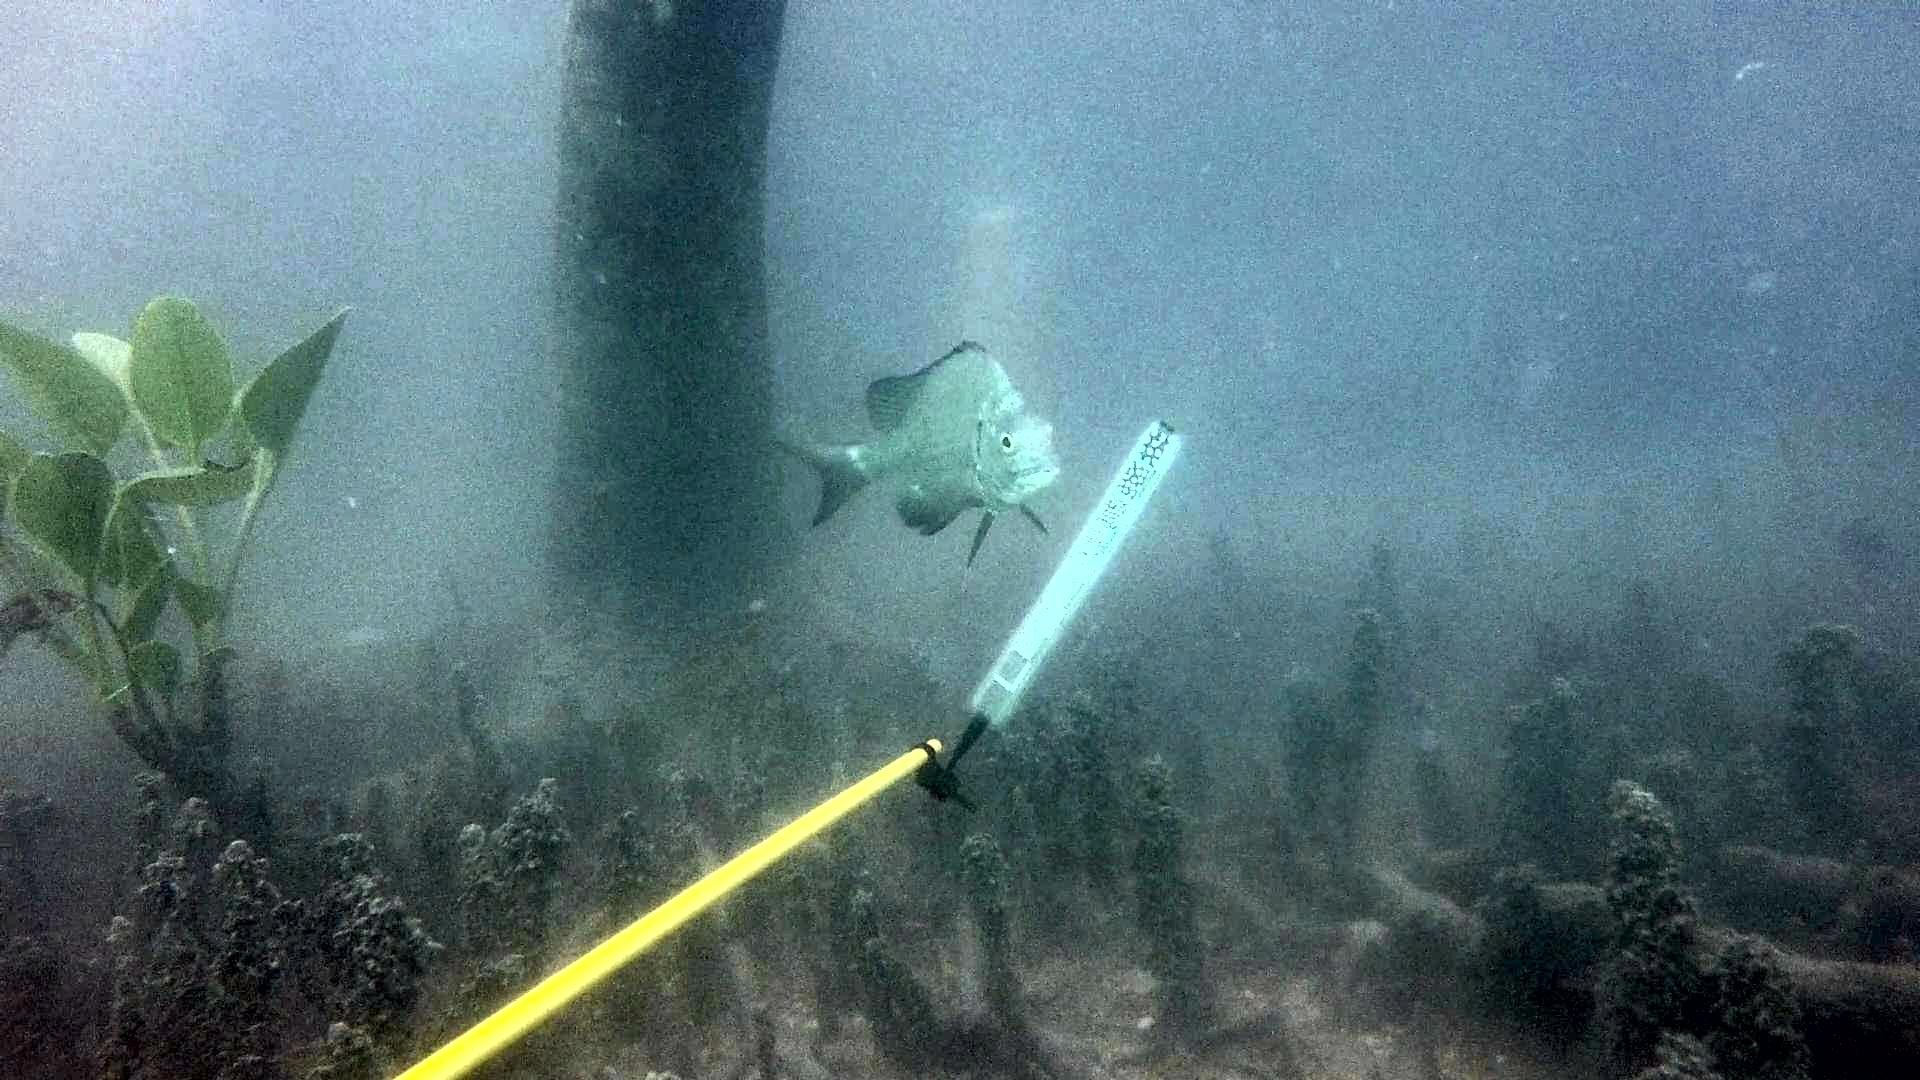acanthopagrus palmaris: (756, 332, 1073, 571)
